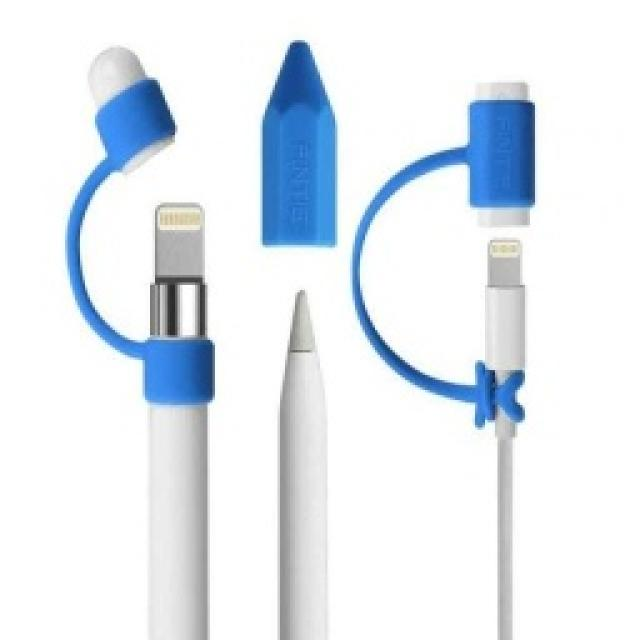pencil: (255, 38, 340, 250)
